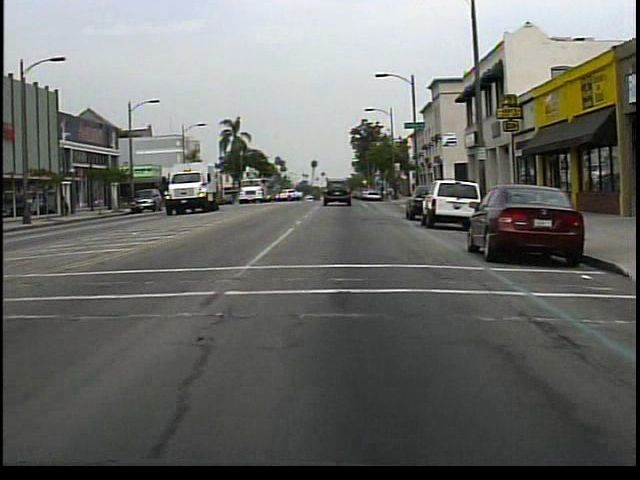person: (63, 193, 72, 218)
